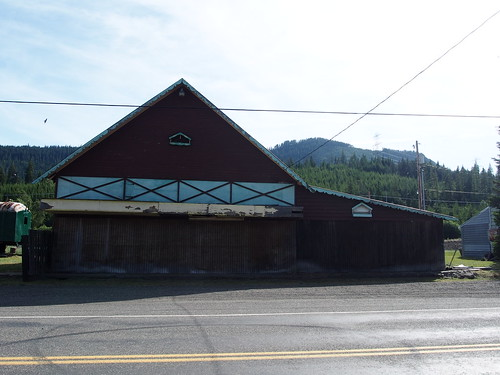building: (33, 90, 442, 272)
sky: (10, 1, 500, 122)
street: (1, 282, 496, 375)
